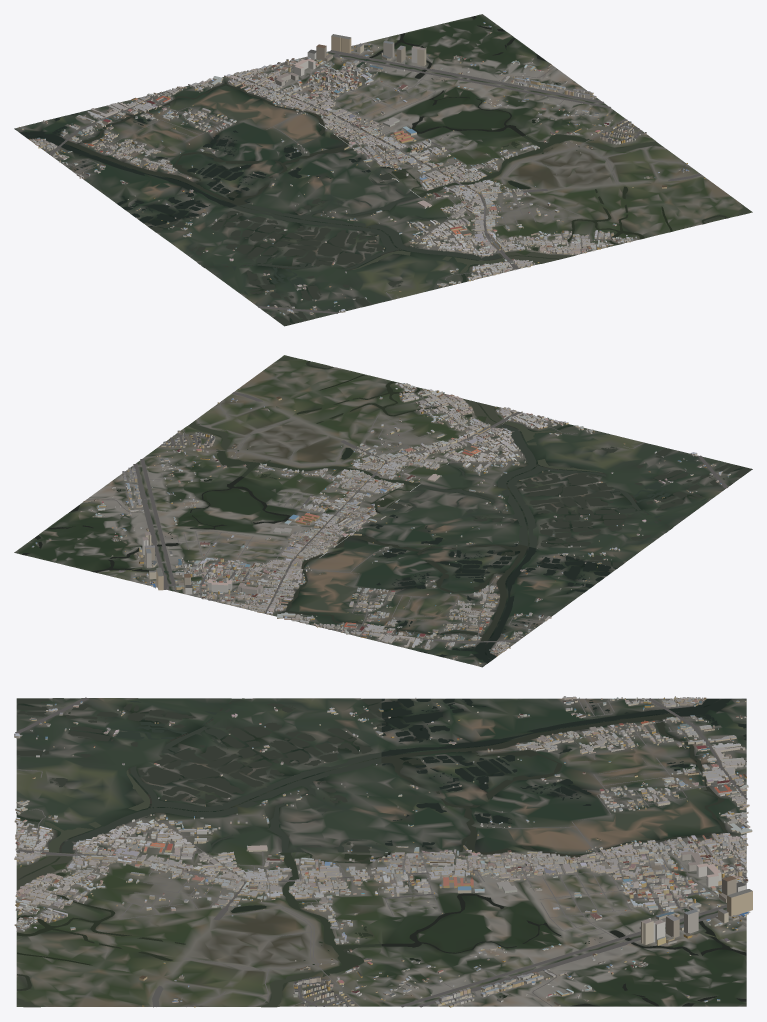
The picture shows the model from 3 angles, top to bottom: view 1: azimuth 30°, elevation 25°; view 2: azimuth 150°, elevation 25°; view 3: azimuth 270°, elevation 25°; orthographic projection. The views are drawn at different scales.
Parts seen in each view (by area): view 1: ground, buildings, water, roads; view 2: ground, buildings, water, roads; view 3: ground, buildings, water, roads.
Boxes of the visible parts, x1=… form: ground: x1=14, y1=14, x2=752, y2=326; buildings: x1=19, y1=22, x2=705, y2=315; water: x1=14, y1=16, x2=749, y2=325; roads: x1=31, y1=42, x2=702, y2=313; ground: x1=14, y1=355, x2=752, y2=667; buildings: x1=31, y1=383, x2=730, y2=665; water: x1=22, y1=356, x2=752, y2=666; roads: x1=86, y1=382, x2=727, y2=654; ground: x1=16, y1=698, x2=746, y2=1007; buildings: x1=14, y1=696, x2=752, y2=1007; water: x1=16, y1=698, x2=746, y2=1006; roads: x1=15, y1=697, x2=747, y2=1007.
Bounding box in the file's own units: 2820 × 96.06 × 2836.
